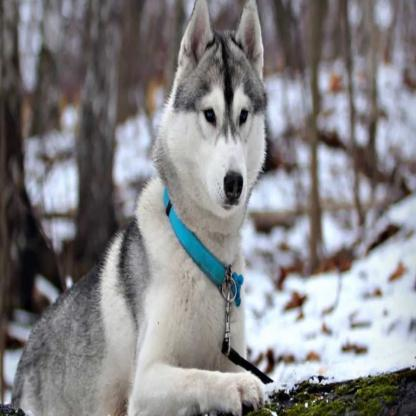husky: (0, 4, 269, 416)
